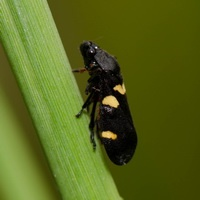insect: (73, 41, 136, 164)
